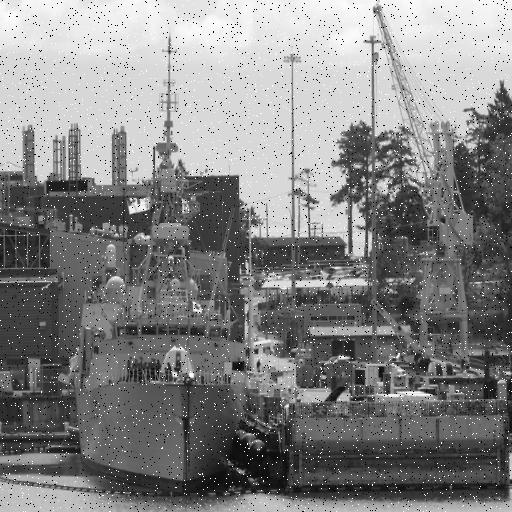Fragata: (63, 18, 256, 496)
